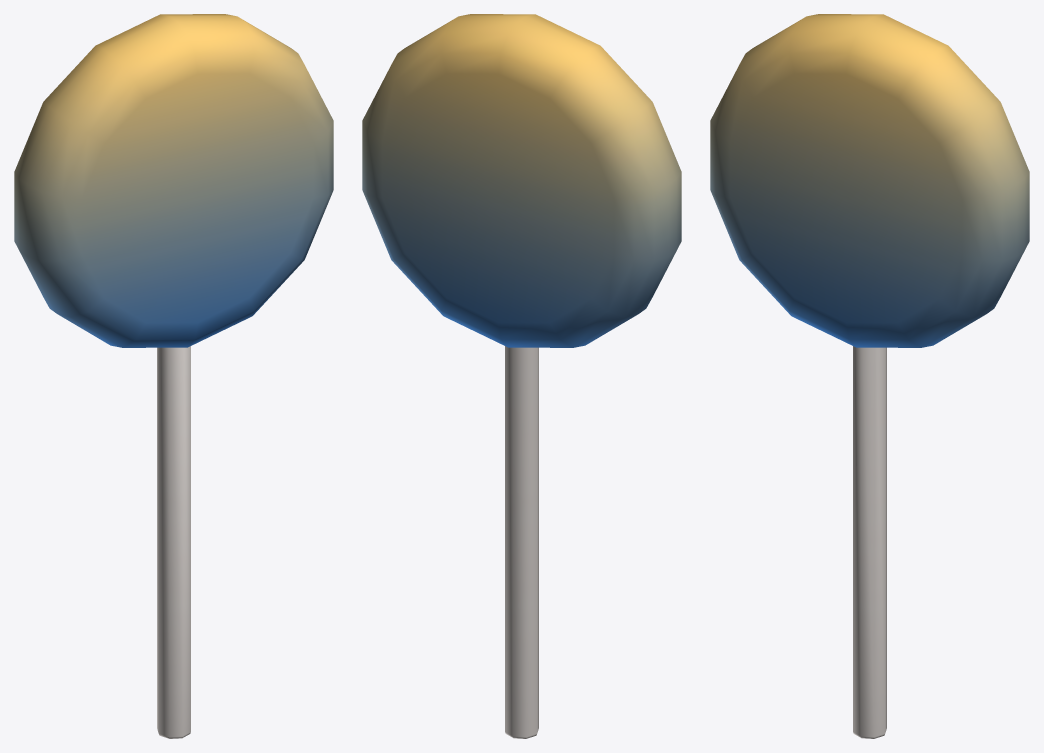
Rendered from candy_glass_10.fbx.
3 renders of one model, left to right at view 1: azimuth 30°, elevation 25°; view 2: azimuth 150°, elevation 25°; view 3: azimuth 330°, elevation 25°, orthographic.
Parts seen in each view (by area): view 1: c_g_10; view 2: c_g_10; view 3: c_g_10.
Part boxes in pixels (x1,y1,x2,y2): c_g_10: (14,14,333,738); c_g_10: (362,14,681,738); c_g_10: (710,14,1029,738).
Bounding box in the file's own units: 137 × 310 × 37.39.
